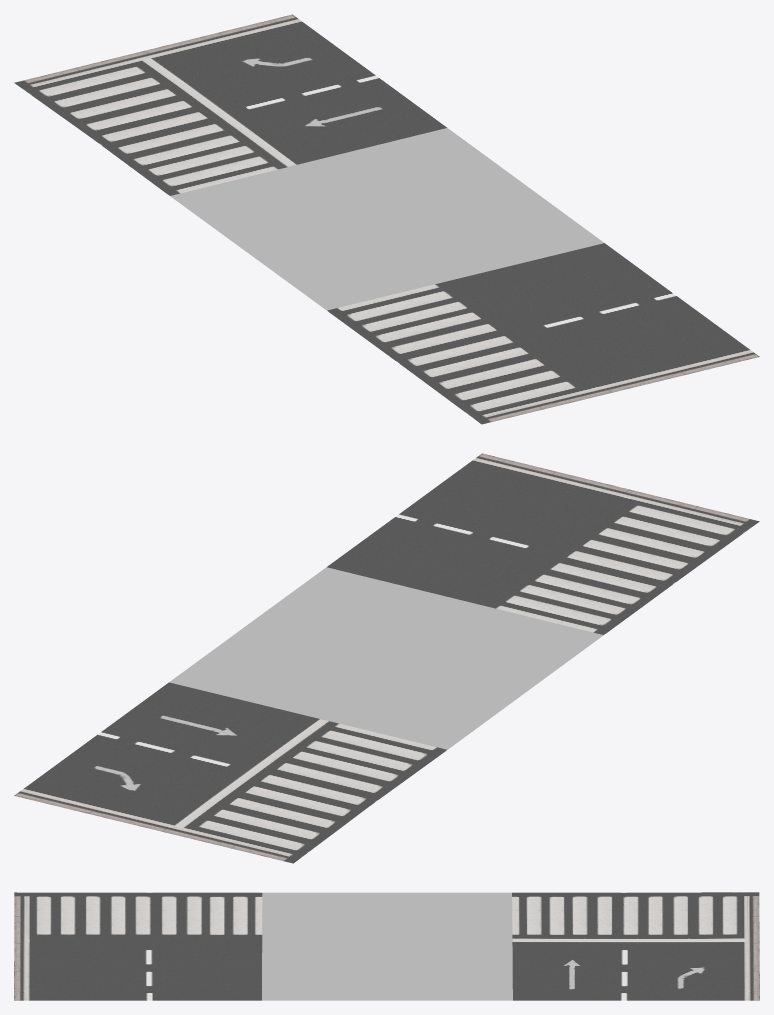
File: 6 lines end.FBX
3 views of the same model, one above another, from view 1: azimuth 30°, elevation 25°; view 2: azimuth 150°, elevation 25°; view 3: azimuth 270°, elevation 25° (orthographic). The views are drawn at different scales.
Parts seen in each view (by area): view 1: Object196; view 2: Object196; view 3: Object196.
Part boxes in pixels (x1=…): Object196: x1=14, y1=14, x2=759, y2=424; Object196: x1=14, y1=453, x2=759, y2=863; Object196: x1=14, y1=892, x2=759, y2=1000.
Bounding box in the file's own units: 12.08 × 9.94e-15 × 35.09.
